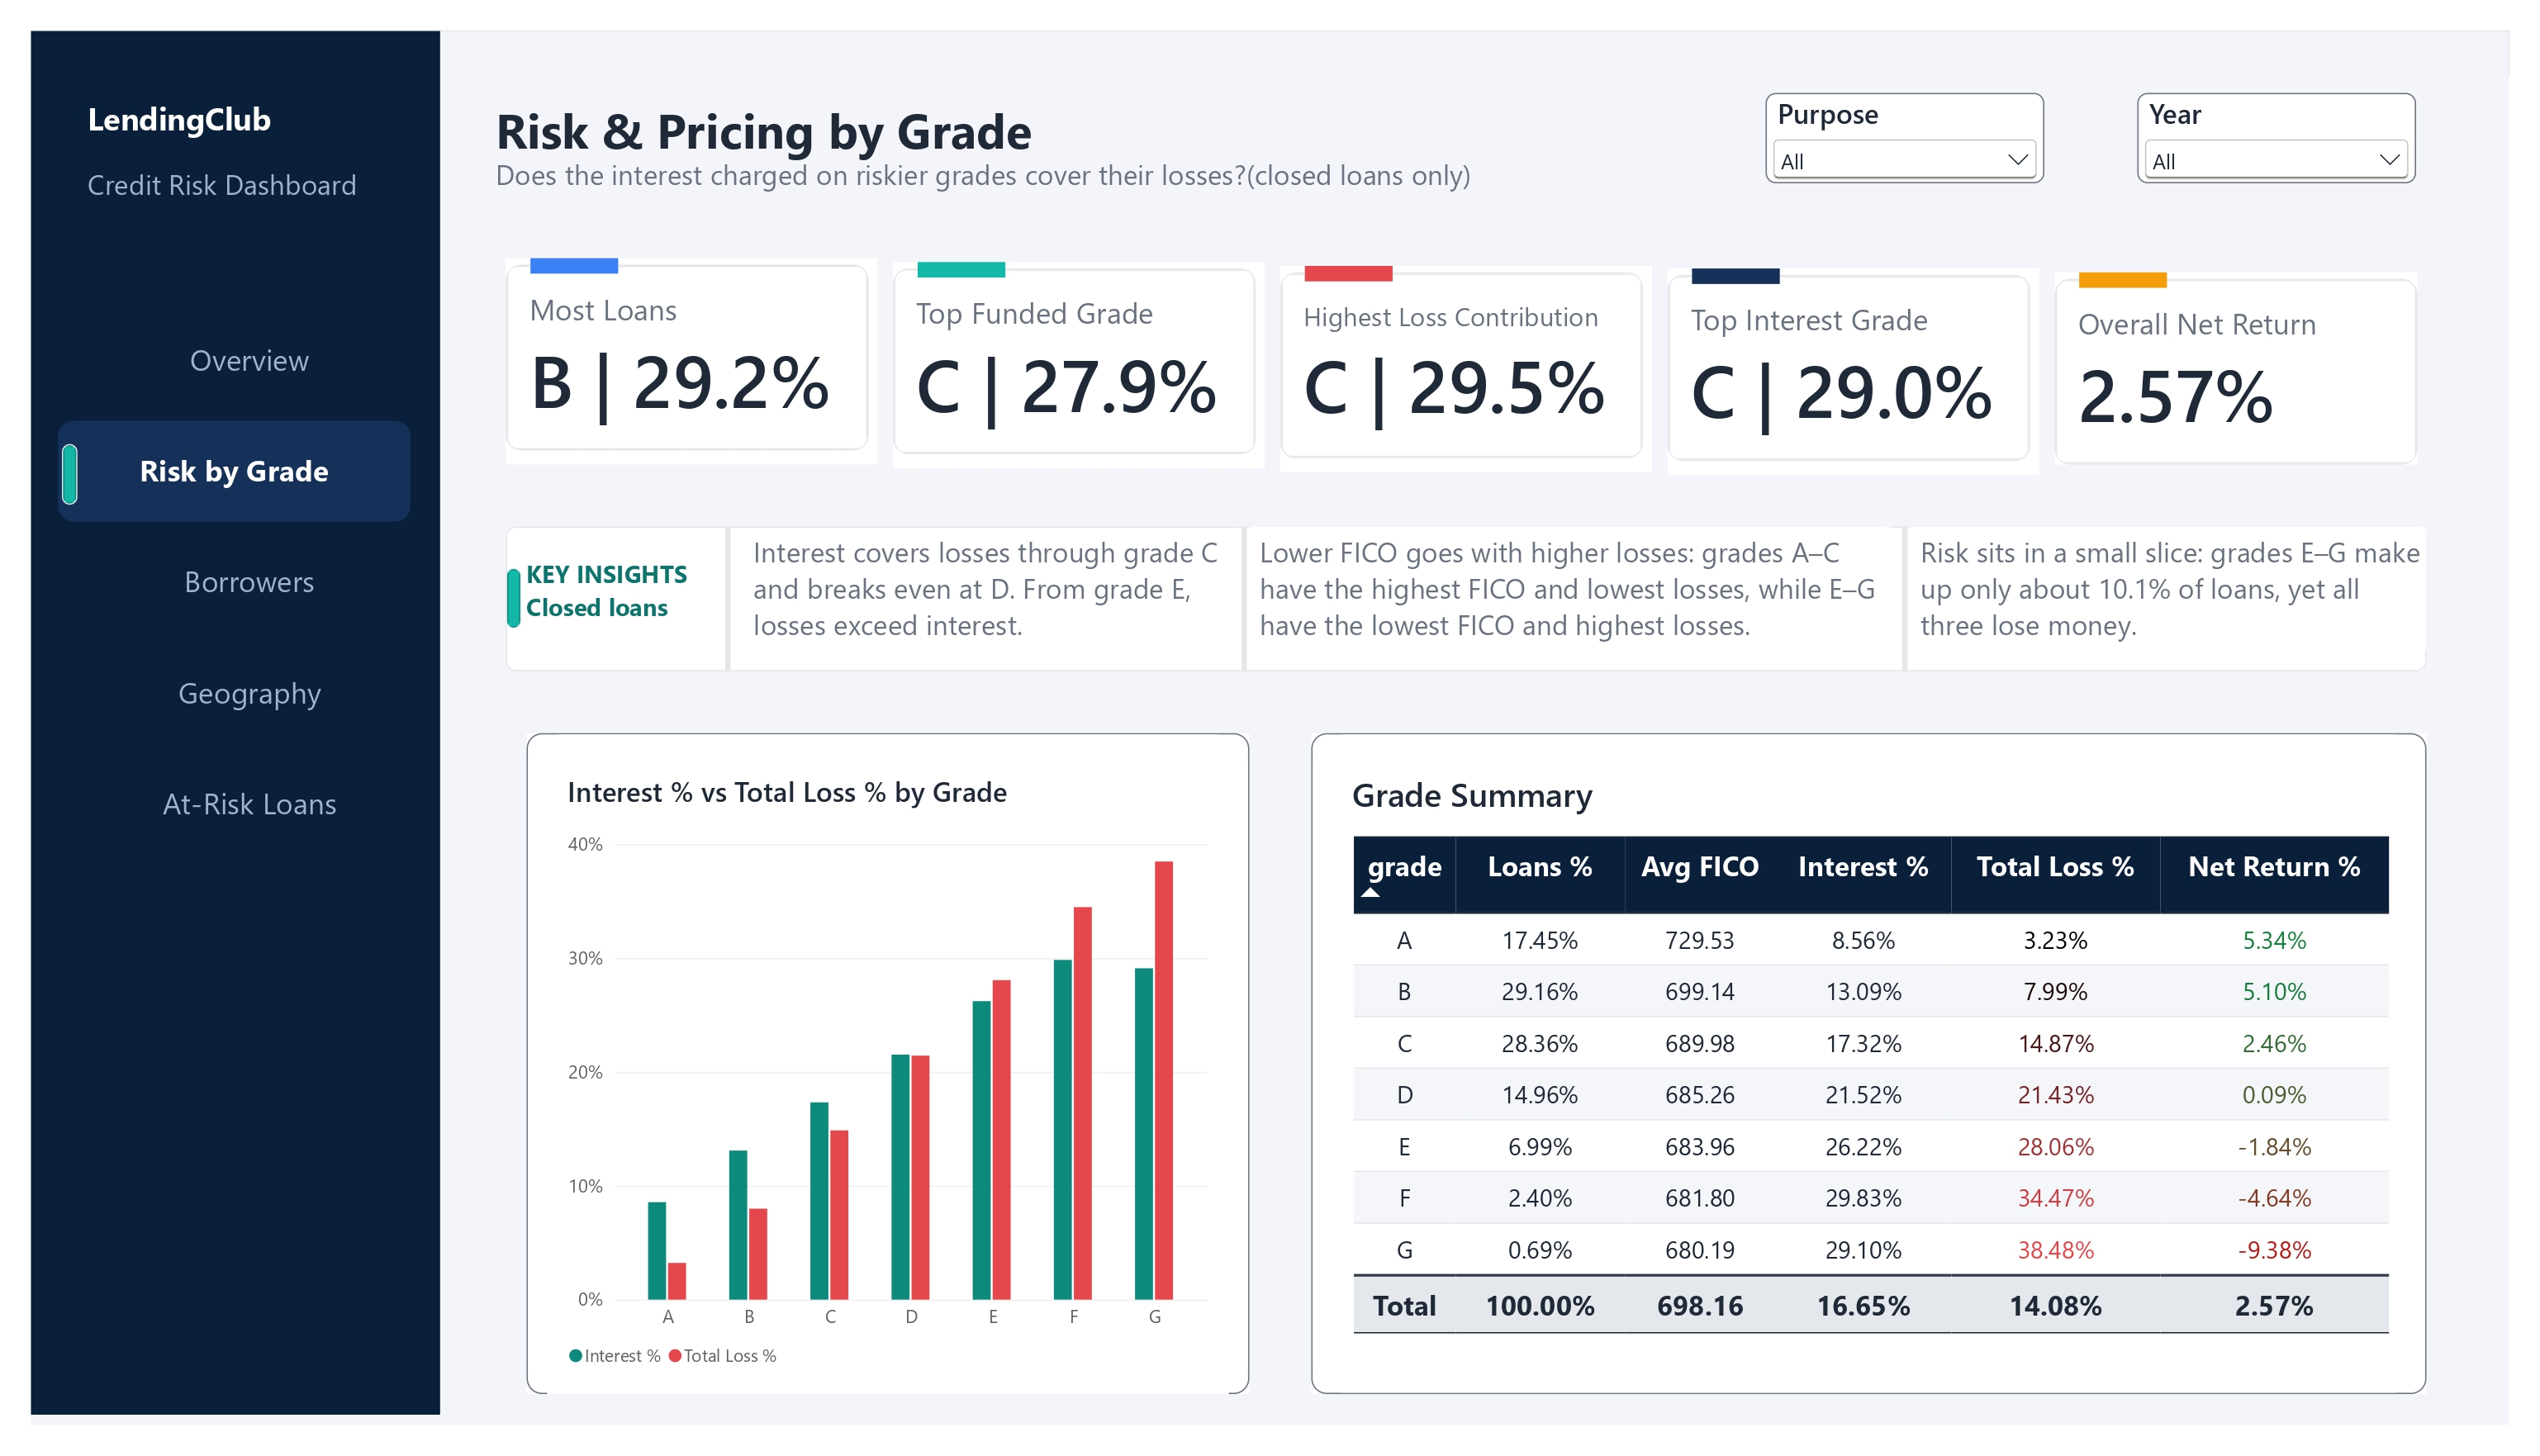

The dashboard page shown, as its layout file describes it:
{"tool":"powerbi","page":{"name":"Risk by Grade","canvas":[1920,1080],"ordinal":1},"visuals":[{"type":"shape","box":[0,-8,317,1080],"z":0},{"type":"cardVisual","fields":{"Data":["loans_dashboard.Most Loans"]},"box":[368,181,281,144],"z":0,"group":"g4"},{"type":"cardVisual","fields":{"Data":["loans_dashboard.Top Funded Grade"]},"box":[668,183.8,281,144],"z":0,"group":"g1"},{"type":"cardVisual","fields":{"Data":["loans_dashboard.Highest Loss Grade"]},"box":[968,186.5,281,144],"z":0,"group":"g2"},{"type":"cardVisual","fields":{"Data":["loans_dashboard.Top Interest Grade"]},"box":[1268,189.2,281,144],"z":0,"group":"g5"},{"type":"cardVisual","fields":{"Data":["loans_dashboard.Net Return %"]},"box":[1568,192,281,144],"z":0,"group":"g3"},{"type":"textbox","box":[44,51,245,57],"z":1000},{"type":"shape","box":[387,176,68,12],"z":1000,"group":"g4"},{"type":"shape","box":[687,178.8,68,12],"z":1000,"group":"g1"},{"type":"shape","box":[987,181.5,68,12],"z":1000,"group":"g2"},{"type":"shape","box":[1287,184.2,68,12],"z":1000,"group":"g5"},{"type":"shape","box":[1587,187,68,12],"z":1000,"group":"g3"},{"type":"textbox","box":[44,104,245,44],"z":2000},{"type":"pageNavigator","box":[21,216,273,426],"z":3000},{"type":"shape","box":[24,320,12,47],"z":4000},{"type":"textbox","box":[360,51,552,72],"z":5000},{"type":"textbox","box":[360,96,792,48],"z":6000},{"type":"slicer","fields":{"Values":["loans_dashboard.issue_d.Variation.Date Hierarchy.Year"]},"box":[1632,48,216,70],"z":7000},{"type":"group","id":"g1","title":"Group 1","box":[668,178.8,288,160],"z":8000},{"type":"group","id":"g2","title":"Group 1","box":[968,181.5,288,160],"z":9000},{"type":"group","id":"g3","title":"Group 1","box":[1568,187,281,149],"z":10000},{"type":"group","id":"g4","title":"Group 1","box":[368,176,288,160],"z":11000},{"type":"group","id":"g5","title":"Group 1","box":[1268,184.2,288,160],"z":12000},{"type":"slicer","fields":{"Values":["loans_dashboard.purpose"]},"box":[1344,48,216,70],"z":13000},{"type":"shape","box":[384,544,560,512],"z":13000,"group":"g6"},{"type":"group","id":"g6","title":"Group 2","box":[384,544,560,512],"z":14000},{"type":"group","id":"g7","title":"Group 4","box":[992,544,864,512],"z":15000},{"type":"shape","box":[368,384,1488,112],"z":16000},{"type":"shape","box":[368,416,12,47],"z":17000},{"type":"shape","box":[992,544,864,512],"z":17000,"group":"g7"},{"type":"clusteredColumnChart","title":"Interest % vs Total Loss % by Grade","fields":{"Category":["loans_dashboard.grade"],"Y":["loans_dashboard.Interest %","loans_dashboard.Total Loss %"]},"box":[400,560,528,496],"z":17005,"group":"g6"},{"type":"textbox","box":[384,408,144,72],"z":18000},{"type":"textbox","box":[1456,384,400,96],"z":19000},{"type":"textbox","box":[944,384,496,96],"z":20000},{"type":"textbox","box":[552,384,384,96],"z":21000},{"type":"tableEx","title":"Grade Summary","fields":{"Values":["loans_dashboard.grade","loans_dashboard.Loans %","loans_dashboard.Avg FICO","loans_dashboard.Interest %","loans_dashboard.Total Loss %","loans_dashboard.Net Return %"]},"box":[1008,560,837,488],"z":21001,"group":"g7"},{"type":"shape","box":[928,384,24,112],"z":22000},{"type":"shape","box":[528,384,24,112],"z":23000},{"type":"shape","box":[1440,384,24,112],"z":24000}]}

Visuals, with their boxes on the page's 1920x1080 design canvas (x1, y1, x2, y2). These are canvas units, not pixel positions in the 2540x1456 screenshot, which may show the page scaled, cropped or inside an application window:
shape: box(0, -8, 317, 1072)
cardVisual - loans_dashboard.Most Loans: box(368, 181, 649, 325)
cardVisual - loans_dashboard.Top Funded Grade: box(668, 184, 949, 328)
cardVisual - loans_dashboard.Highest Loss Grade: box(968, 186, 1249, 330)
cardVisual - loans_dashboard.Top Interest Grade: box(1268, 189, 1549, 333)
cardVisual - loans_dashboard.Net Return %: box(1568, 192, 1849, 336)
textbox: box(44, 51, 289, 108)
shape: box(387, 176, 455, 188)
shape: box(687, 179, 755, 191)
shape: box(987, 182, 1055, 194)
shape: box(1287, 184, 1355, 196)
shape: box(1587, 187, 1655, 199)
textbox: box(44, 104, 289, 148)
pageNavigator: box(21, 216, 294, 642)
shape: box(24, 320, 36, 367)
textbox: box(360, 51, 912, 123)
textbox: box(360, 96, 1152, 144)
slicer - loans_dashboard.issue_d.Variation.Date Hierarchy.Year: box(1632, 48, 1848, 118)
"Group 1" group: box(668, 179, 956, 339)
"Group 1" group: box(968, 182, 1256, 342)
"Group 1" group: box(1568, 187, 1849, 336)
"Group 1" group: box(368, 176, 656, 336)
"Group 1" group: box(1268, 184, 1556, 344)
slicer - loans_dashboard.purpose: box(1344, 48, 1560, 118)
shape: box(384, 544, 944, 1056)
"Group 2" group: box(384, 544, 944, 1056)
"Group 4" group: box(992, 544, 1856, 1056)
shape: box(368, 384, 1856, 496)
shape: box(368, 416, 380, 463)
shape: box(992, 544, 1856, 1056)
"Interest % vs Total Loss % by Grade" clusteredColumnChart: box(400, 560, 928, 1056)
textbox: box(384, 408, 528, 480)
textbox: box(1456, 384, 1856, 480)
textbox: box(944, 384, 1440, 480)
textbox: box(552, 384, 936, 480)
"Grade Summary" tableEx: box(1008, 560, 1845, 1048)
shape: box(928, 384, 952, 496)
shape: box(528, 384, 552, 496)
shape: box(1440, 384, 1464, 496)
